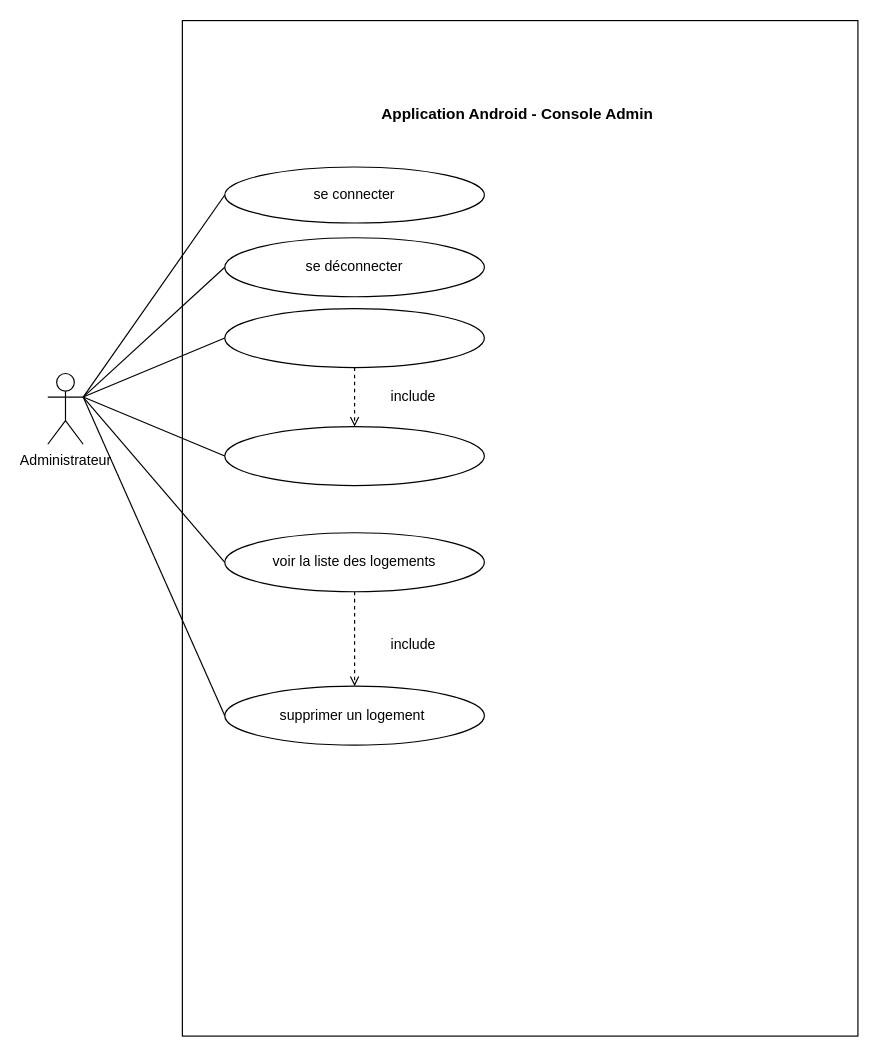
This 879x1057 diagram has some shape labels left out. Here are the shapes that lost their labels. From the top down, the centre of each, then its label:
At (x=354, y=337): "voir la liste des utilisateurs".
At (x=354, y=455): "supprimer un utilisateur".
